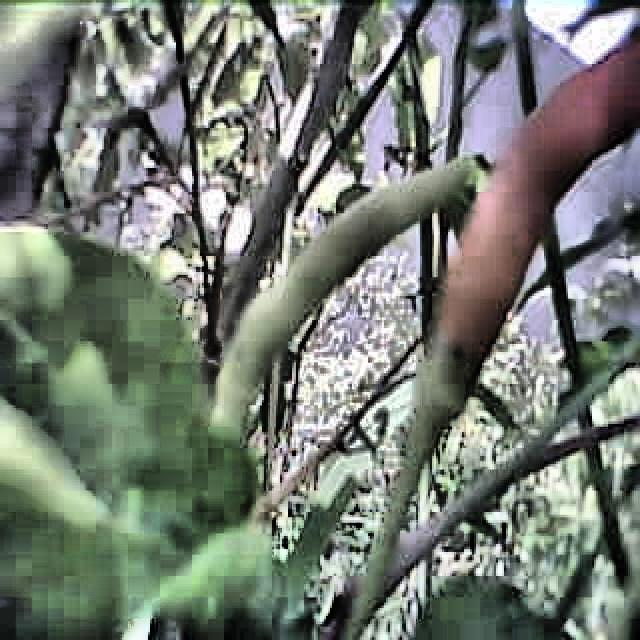Cabai: (488, 40, 634, 294)
